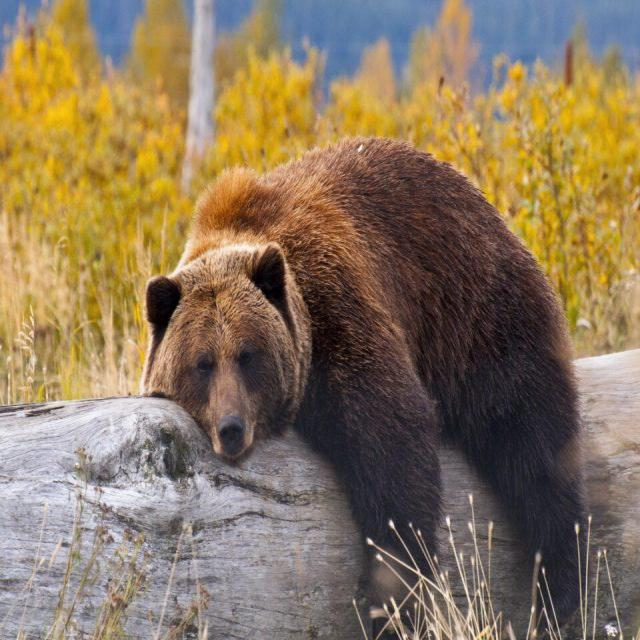Bear: (145, 138, 590, 640)
